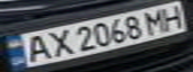0: (90, 19, 112, 47)
2: (72, 23, 96, 53)
6: (109, 16, 130, 44)
8: (121, 12, 148, 41)
A: (18, 33, 54, 63)
H: (157, 2, 190, 30)
M: (139, 7, 172, 34)
X: (42, 27, 75, 58)
